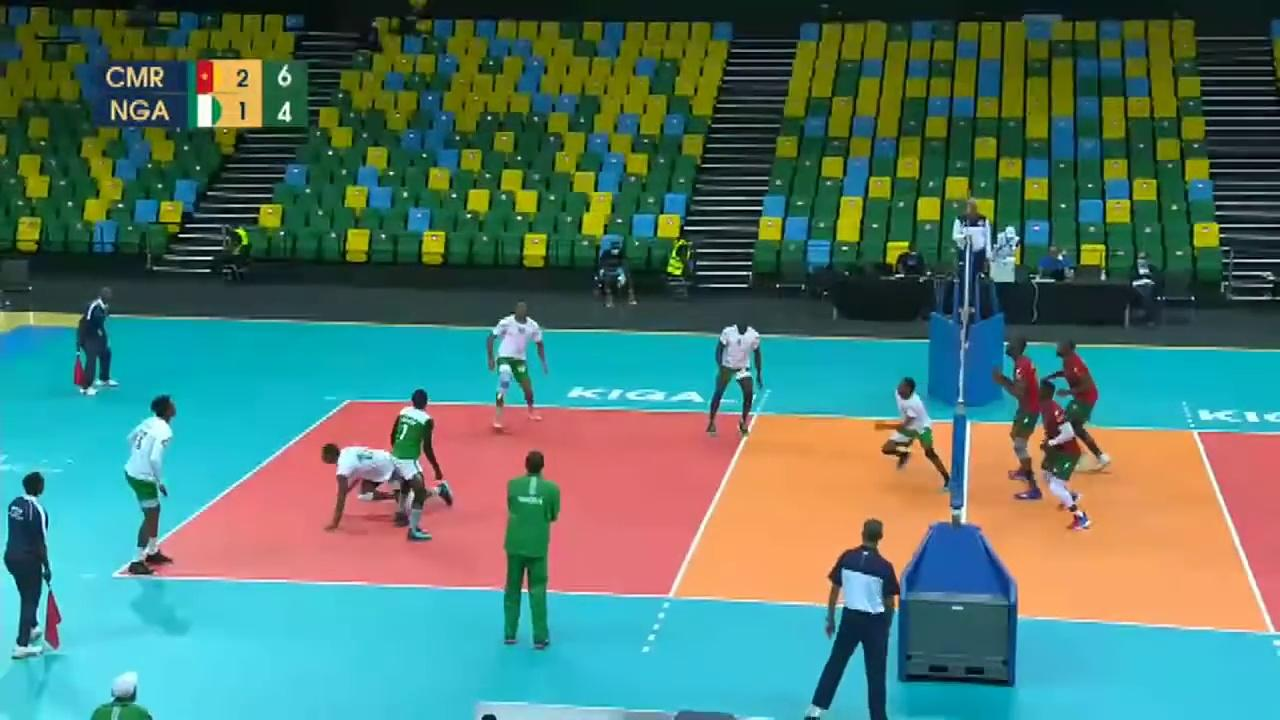player: (320, 434, 449, 524), (391, 391, 453, 537), (124, 398, 176, 572), (1047, 338, 1111, 474), (996, 325, 1046, 498), (878, 375, 952, 489), (1036, 381, 1092, 531), (485, 301, 546, 429), (708, 317, 764, 437)
refree: (797, 521, 904, 720), (2, 474, 58, 652), (78, 288, 116, 395), (954, 197, 991, 306)
